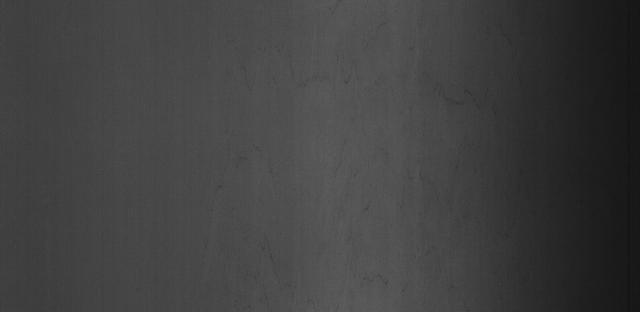silk_spot: (277, 49, 504, 144), (310, 183, 476, 291)
